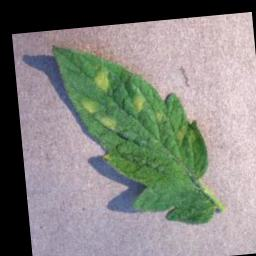Leaf_Mold: (89, 65, 115, 96), (127, 91, 151, 116), (80, 96, 103, 117), (98, 114, 119, 134)
